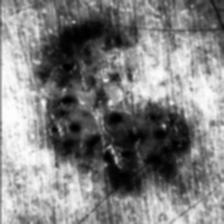Potentially Malignant Skin Tumors: (83, 112, 184, 172)
